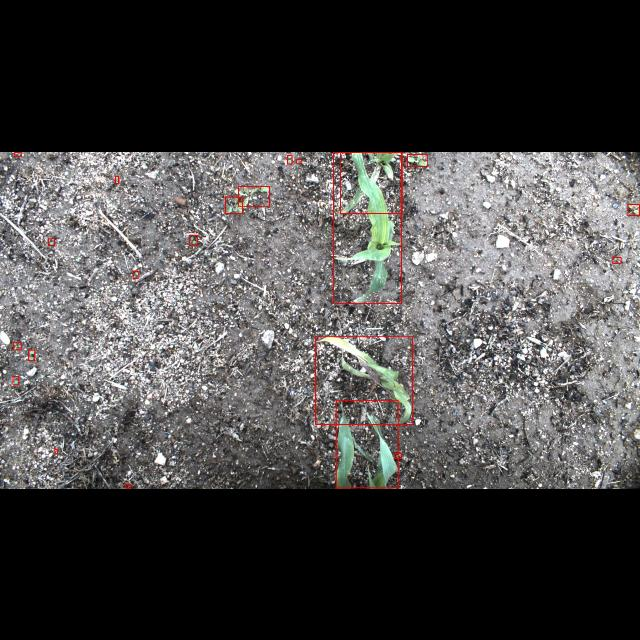crop: (333, 151, 401, 303), (316, 336, 412, 424), (336, 400, 398, 488), (340, 152, 402, 212)
weed: (238, 185, 270, 205), (225, 195, 242, 212), (407, 153, 427, 165), (628, 203, 640, 214), (189, 234, 197, 244), (13, 342, 21, 350), (29, 349, 35, 359), (13, 376, 19, 384), (132, 270, 138, 278), (613, 256, 621, 262), (48, 238, 54, 245), (288, 154, 292, 164), (394, 454, 402, 458), (115, 175, 119, 182), (15, 151, 21, 155), (54, 448, 58, 454), (296, 158, 302, 162), (126, 484, 130, 488)
